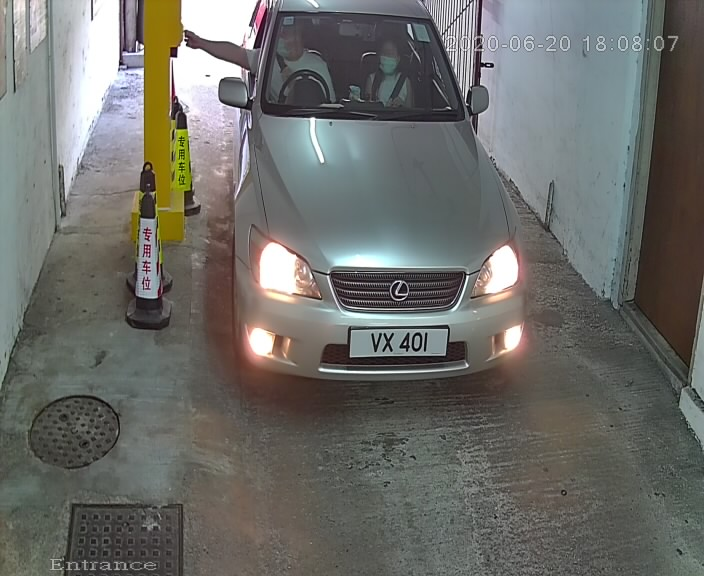privatecar: (207, 1, 555, 414)
